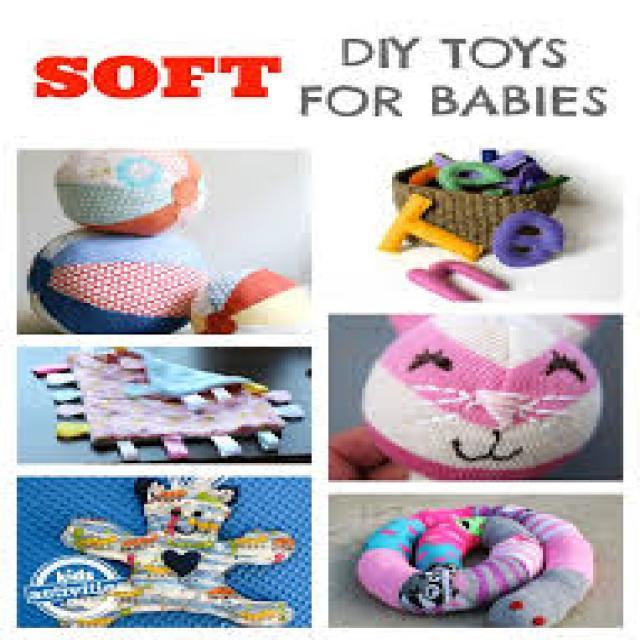soft-toy: (30, 152, 297, 335), (332, 317, 602, 480), (357, 506, 595, 628)
